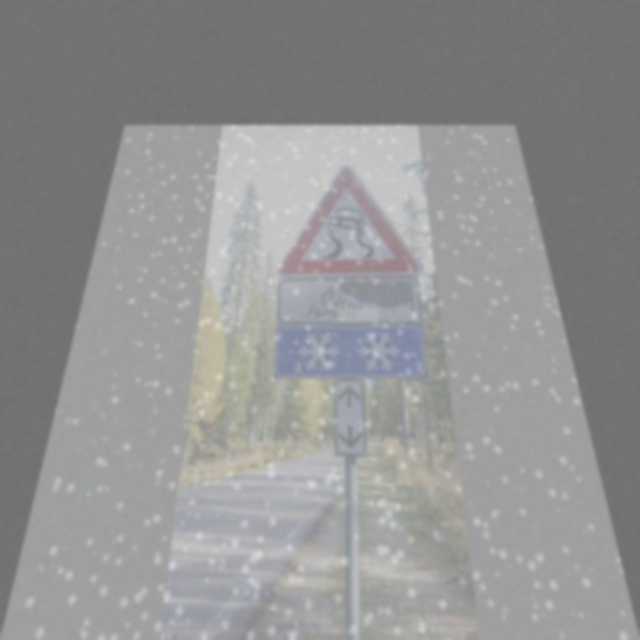Slippery_Road: (283, 167, 414, 270)
